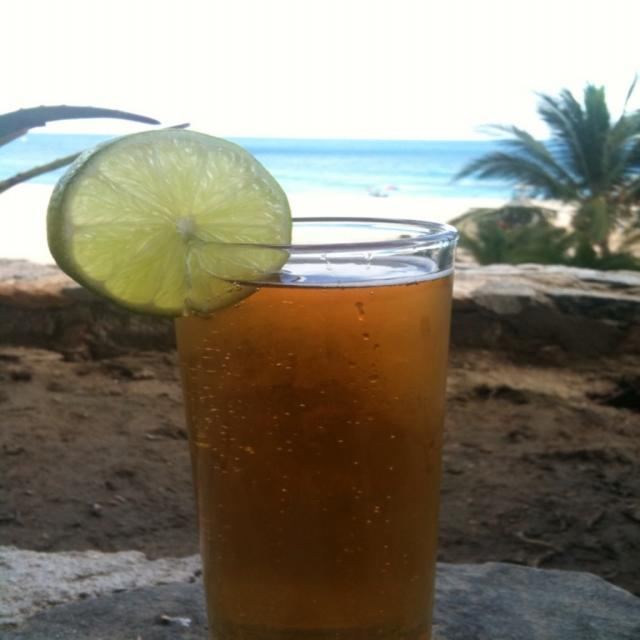Lemon: (46, 124, 292, 318)
